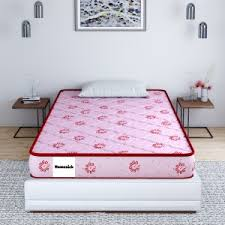bed-matress: (28, 87, 199, 179)
